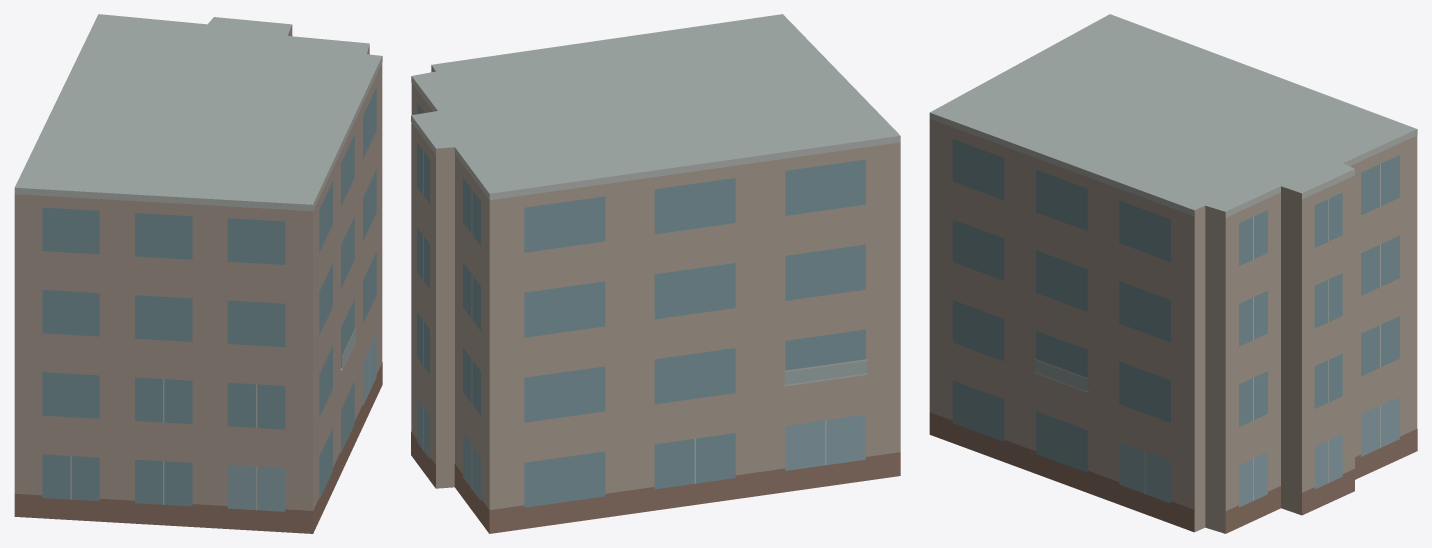
File: survey-upis-32682448.glb
3 views of the same model, side by side, from view 1: azimuth 30°, elevation 25°; view 2: azimuth 150°, elevation 25°; view 3: azimuth 270°, elevation 25° (orthographic). The views are drawn at different scales.
Visible parts, largest first — view 1: survey-upis-32682448.tmp; view 2: survey-upis-32682448.tmp; view 3: survey-upis-32682448.tmp.
Part boxes in pixels (bbox=[...]): survey-upis-32682448.tmp: bbox=[14, 14, 382, 533]; survey-upis-32682448.tmp: bbox=[411, 14, 900, 533]; survey-upis-32682448.tmp: bbox=[929, 14, 1417, 533].
Size of the model in its own units: 16.61 by 12.6 by 17.3.
